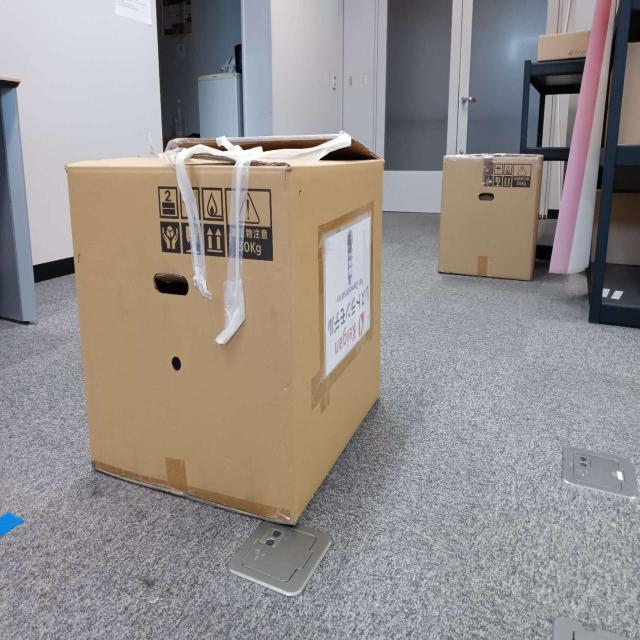box: (76, 142, 384, 521), (437, 146, 532, 281)
